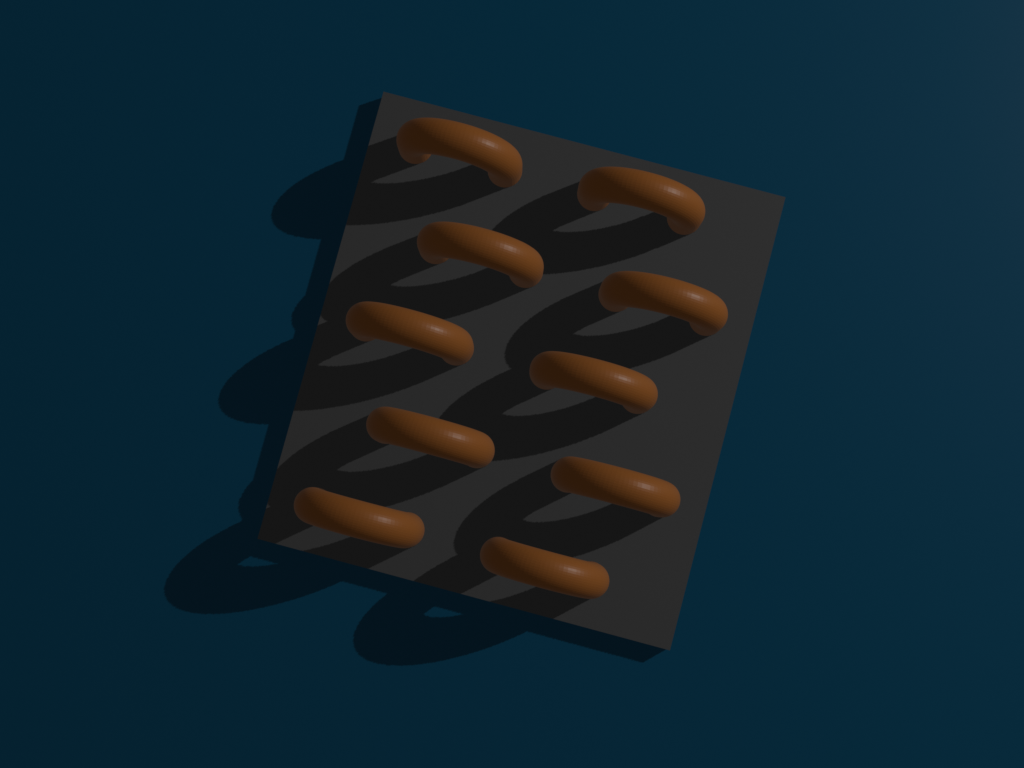return-bend: (323, 283, 501, 395), (452, 516, 630, 627), (522, 431, 700, 542), (502, 327, 680, 438), (568, 245, 746, 356), (553, 140, 731, 251), (271, 466, 449, 577), (343, 386, 521, 497), (392, 199, 570, 310), (376, 94, 554, 205)
